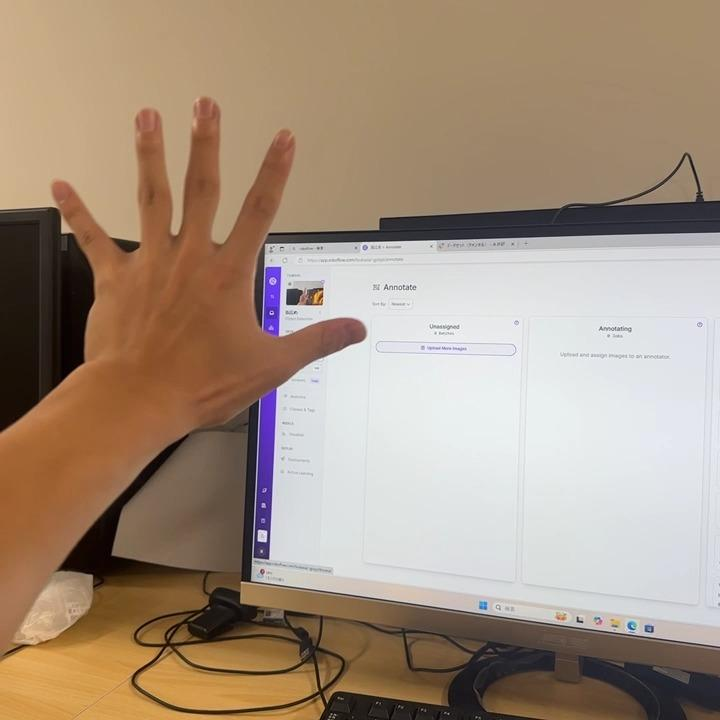without_gloves: (2, 21, 397, 453)
